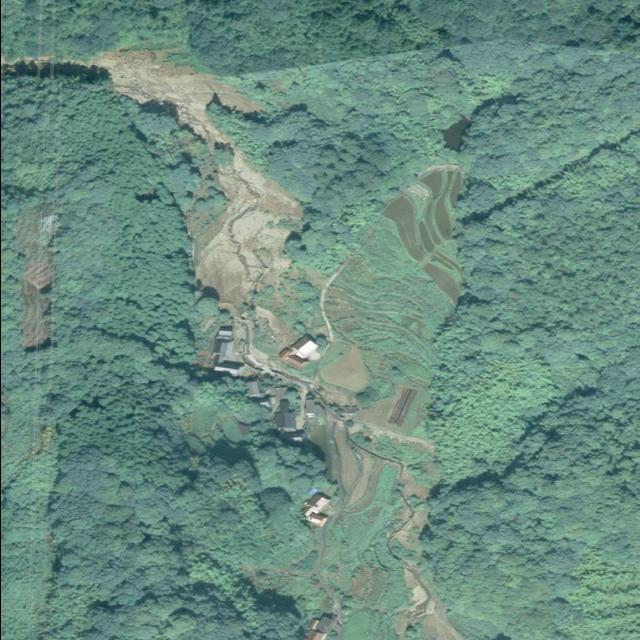landslide: (190, 150, 300, 316), (87, 50, 259, 147)
